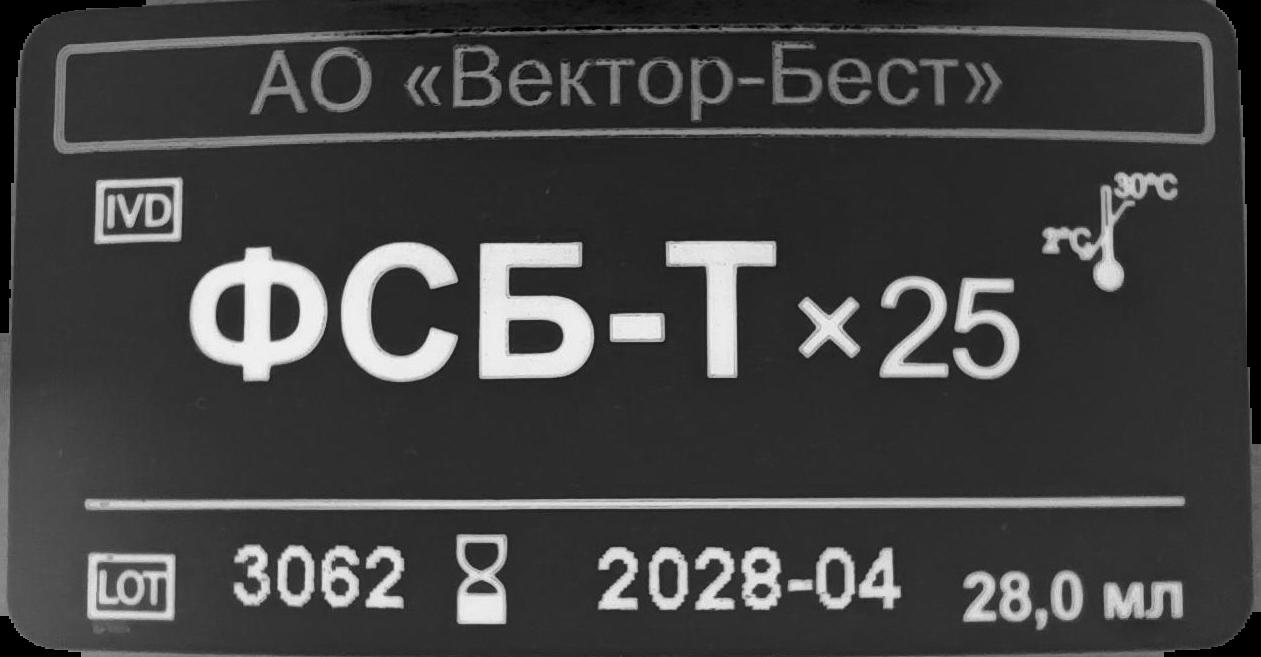something: (1038, 169, 1188, 296), (83, 551, 178, 623), (89, 175, 186, 245), (454, 528, 512, 628)
text: (183, 236, 1027, 385), (246, 40, 1014, 125), (594, 543, 907, 614), (227, 537, 409, 614), (965, 569, 1182, 627)
